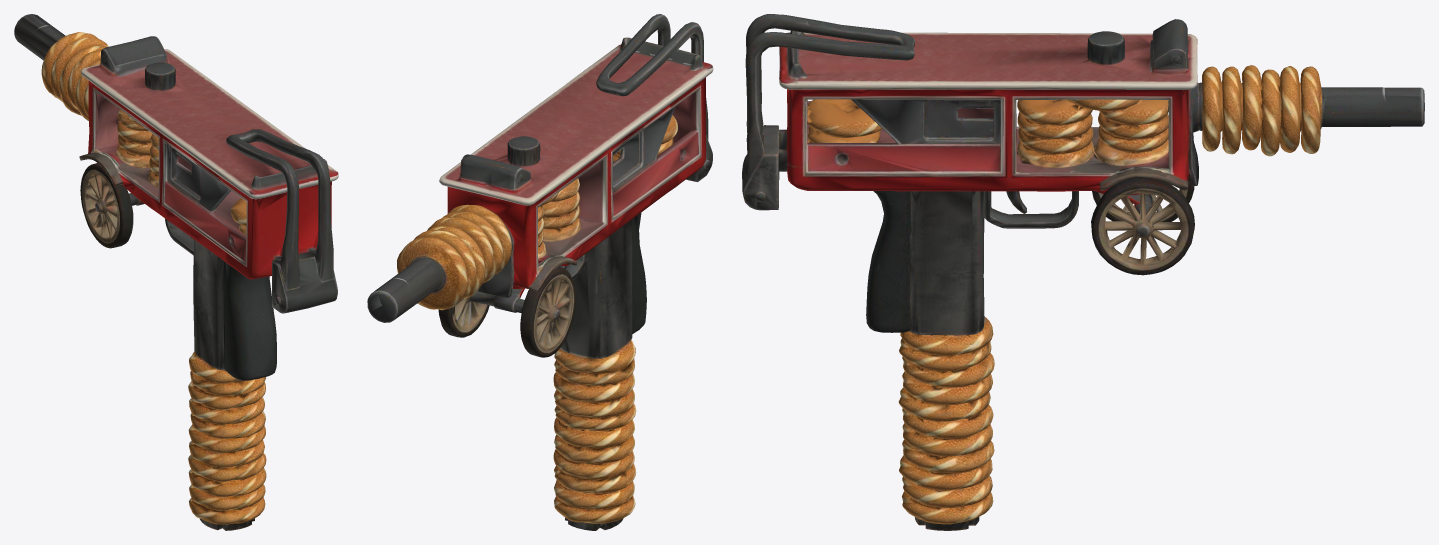
File: mac10_simit.glb
3 views of the same model, side by side, from view 1: azimuth 30°, elevation 25°; view 2: azimuth 150°, elevation 25°; view 3: azimuth 270°, elevation 25° (orthographic). The views are drawn at different scales.
Parts seen in each view (by area): view 1: govde; view 2: govde; view 3: govde.
Part boxes in pixels (x1,y1,x2,y2): govde: (14, 14, 338, 530); govde: (367, 14, 713, 530); govde: (742, 14, 1424, 530).
Bounding box in the file's own units: 0.0569 × 0.2352 × 0.2938.
Materials: 1 (1 with a texture image).
